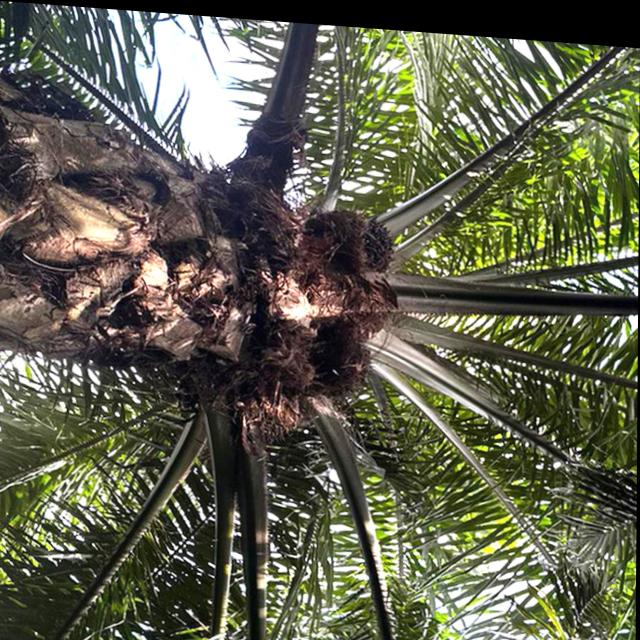unripe: (354, 205, 397, 266)
